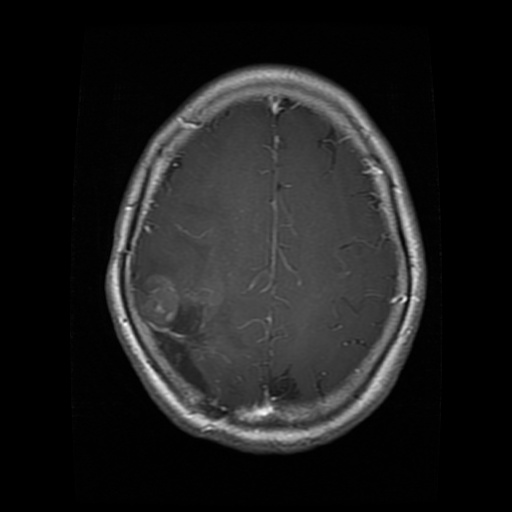glioma: (134, 268, 216, 403)
